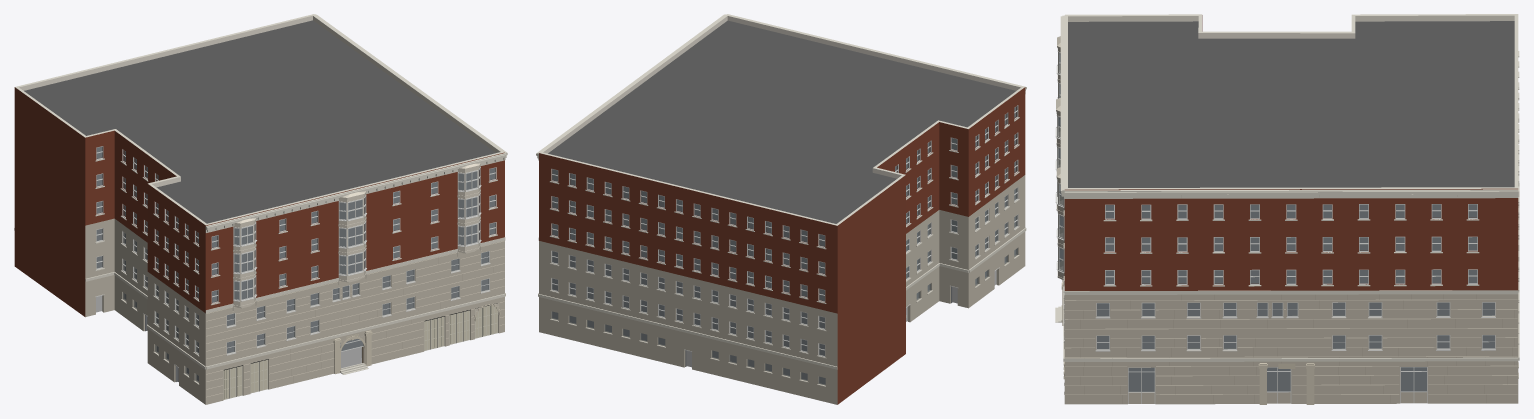
The model's file is exterior.glb.
3 renders of one model, left to right at view 1: azimuth 30°, elevation 25°; view 2: azimuth 150°, elevation 25°; view 3: azimuth 270°, elevation 25°, orthographic. The views are drawn at different scales.
Parts seen in each view (by area): view 1: shell, roof, shadow-proxy, trim, glazing, bay-glazing-hyb, frames, storefront, bay-windows-hyb, hyD-rubble-7, relief-7; view 2: shell, roof, glazing, frames, shadow-proxy, trim; view 3: shell, roof, glazing, trim, shadow-proxy, hyD-rubble-0, frames, relief-0, storefront, bay-glazing-hyb, bay-windows-hyb.
Part boxes in pixels (box(x1,y1,x2,y2)): shell: box(14, 14, 504, 404); roof: box(24, 20, 495, 223); shadow-proxy: box(96, 147, 494, 381); trim: box(14, 14, 507, 384); glazing: box(96, 147, 495, 382); bay-glazing-hyb: box(233, 167, 481, 301); frames: box(96, 146, 496, 354); storefront: box(95, 294, 498, 399); bay-windows-hyb: box(232, 163, 481, 311); hyD-rubble-7: box(206, 241, 504, 397); relief-7: box(205, 237, 505, 374); shell: box(539, 14, 1025, 404); roof: box(548, 20, 1015, 223); glazing: box(551, 106, 1017, 385); frames: box(551, 105, 1018, 356); shadow-proxy: box(552, 107, 1015, 384); trim: box(536, 14, 1026, 386); shell: box(1064, 14, 1518, 404); roof: box(1068, 21, 1514, 187); glazing: box(1097, 204, 1494, 391); trim: box(1060, 15, 1519, 378); shadow-proxy: box(1097, 204, 1494, 391); hyD-rubble-0: box(1065, 294, 1517, 403); frames: box(1096, 204, 1495, 350); relief-0: box(1064, 290, 1518, 404); storefront: box(1128, 367, 1427, 403); bay-glazing-hyb: box(1055, 48, 1064, 273); bay-windows-hyb: box(1056, 36, 1064, 286).
Size of the model in its own units: 39.74 by 22.45 by 43.96.
